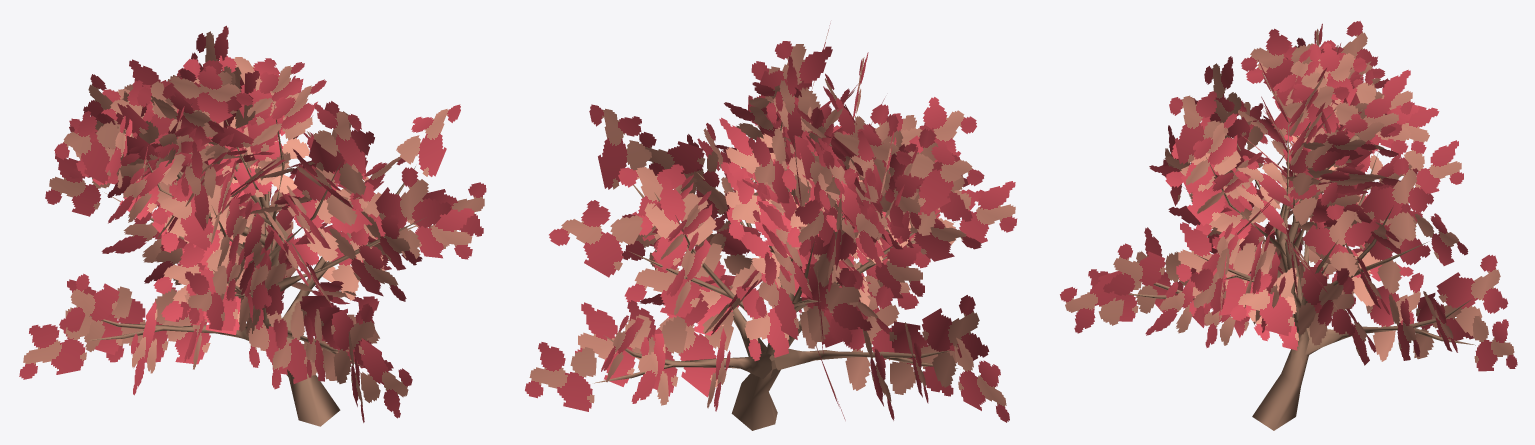
The model's file is tree1.obj.
3 renders of one model, left to right at view 1: azimuth 30°, elevation 25°; view 2: azimuth 150°, elevation 25°; view 3: azimuth 270°, elevation 25°, orthographic. The views are drawn at different scales.
Visible parts, largest first — view 1: leaf, tree; view 2: leaf, tree; view 3: leaf, tree.
Part boxes in pixels (x1=…): leaf: x1=19, y1=25, x2=486, y2=422; tree: x1=86, y1=101, x2=426, y2=426; leaf: x1=525, y1=23, x2=1017, y2=422; tree: x1=594, y1=116, x2=957, y2=430; leaf: x1=1060, y1=21, x2=1517, y2=371; tree: x1=1128, y1=109, x2=1475, y2=430.
Bounding box in the file's own units: 774 × 679 × 793.
2 materials, 2 textured.
